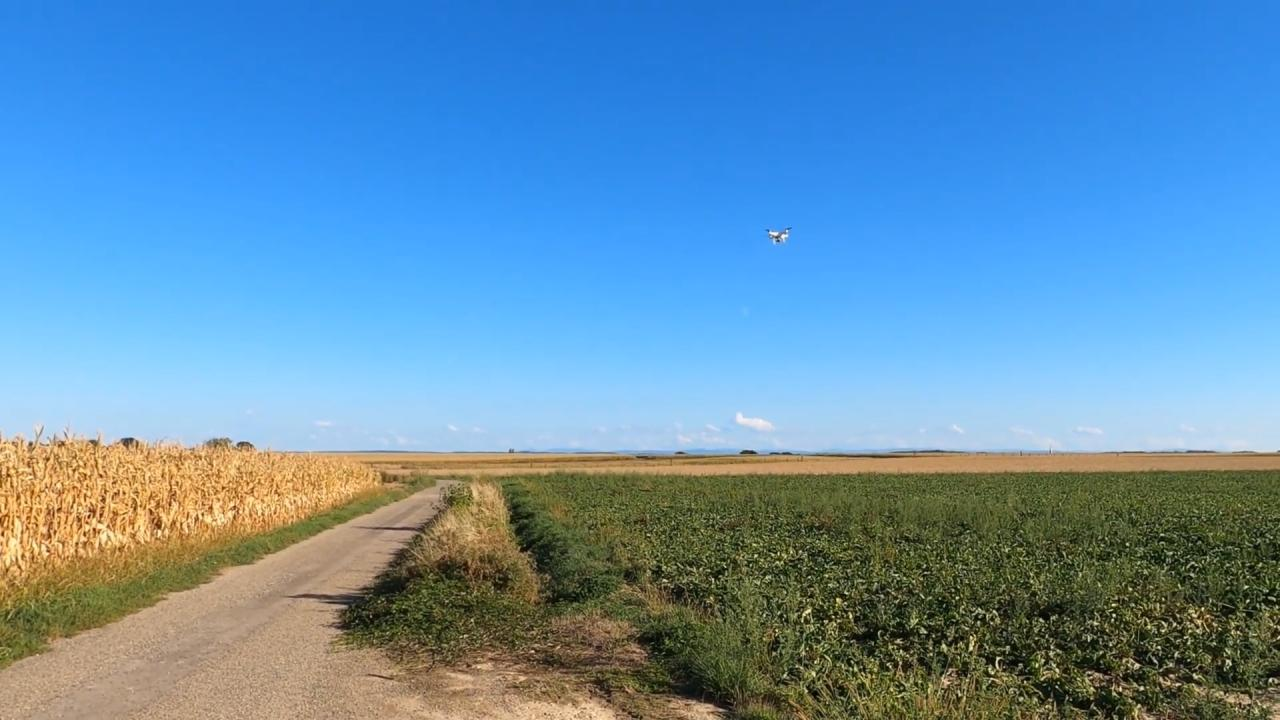Drone: (759, 220, 799, 251)
